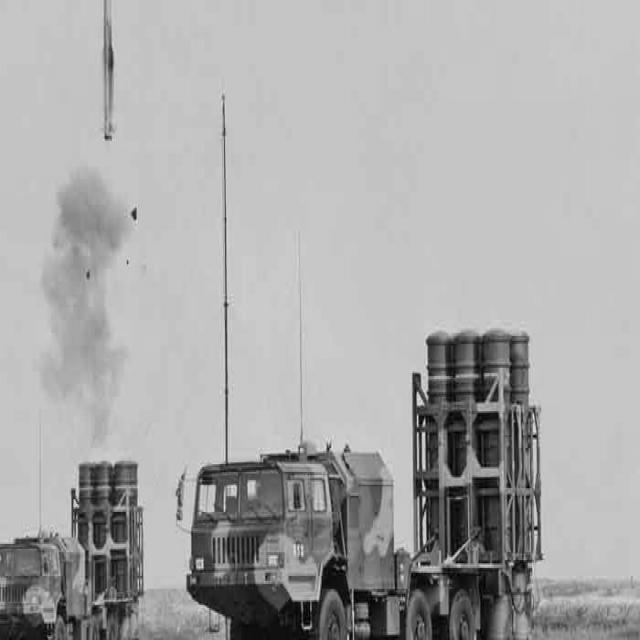missile: (93, 0, 126, 146)
